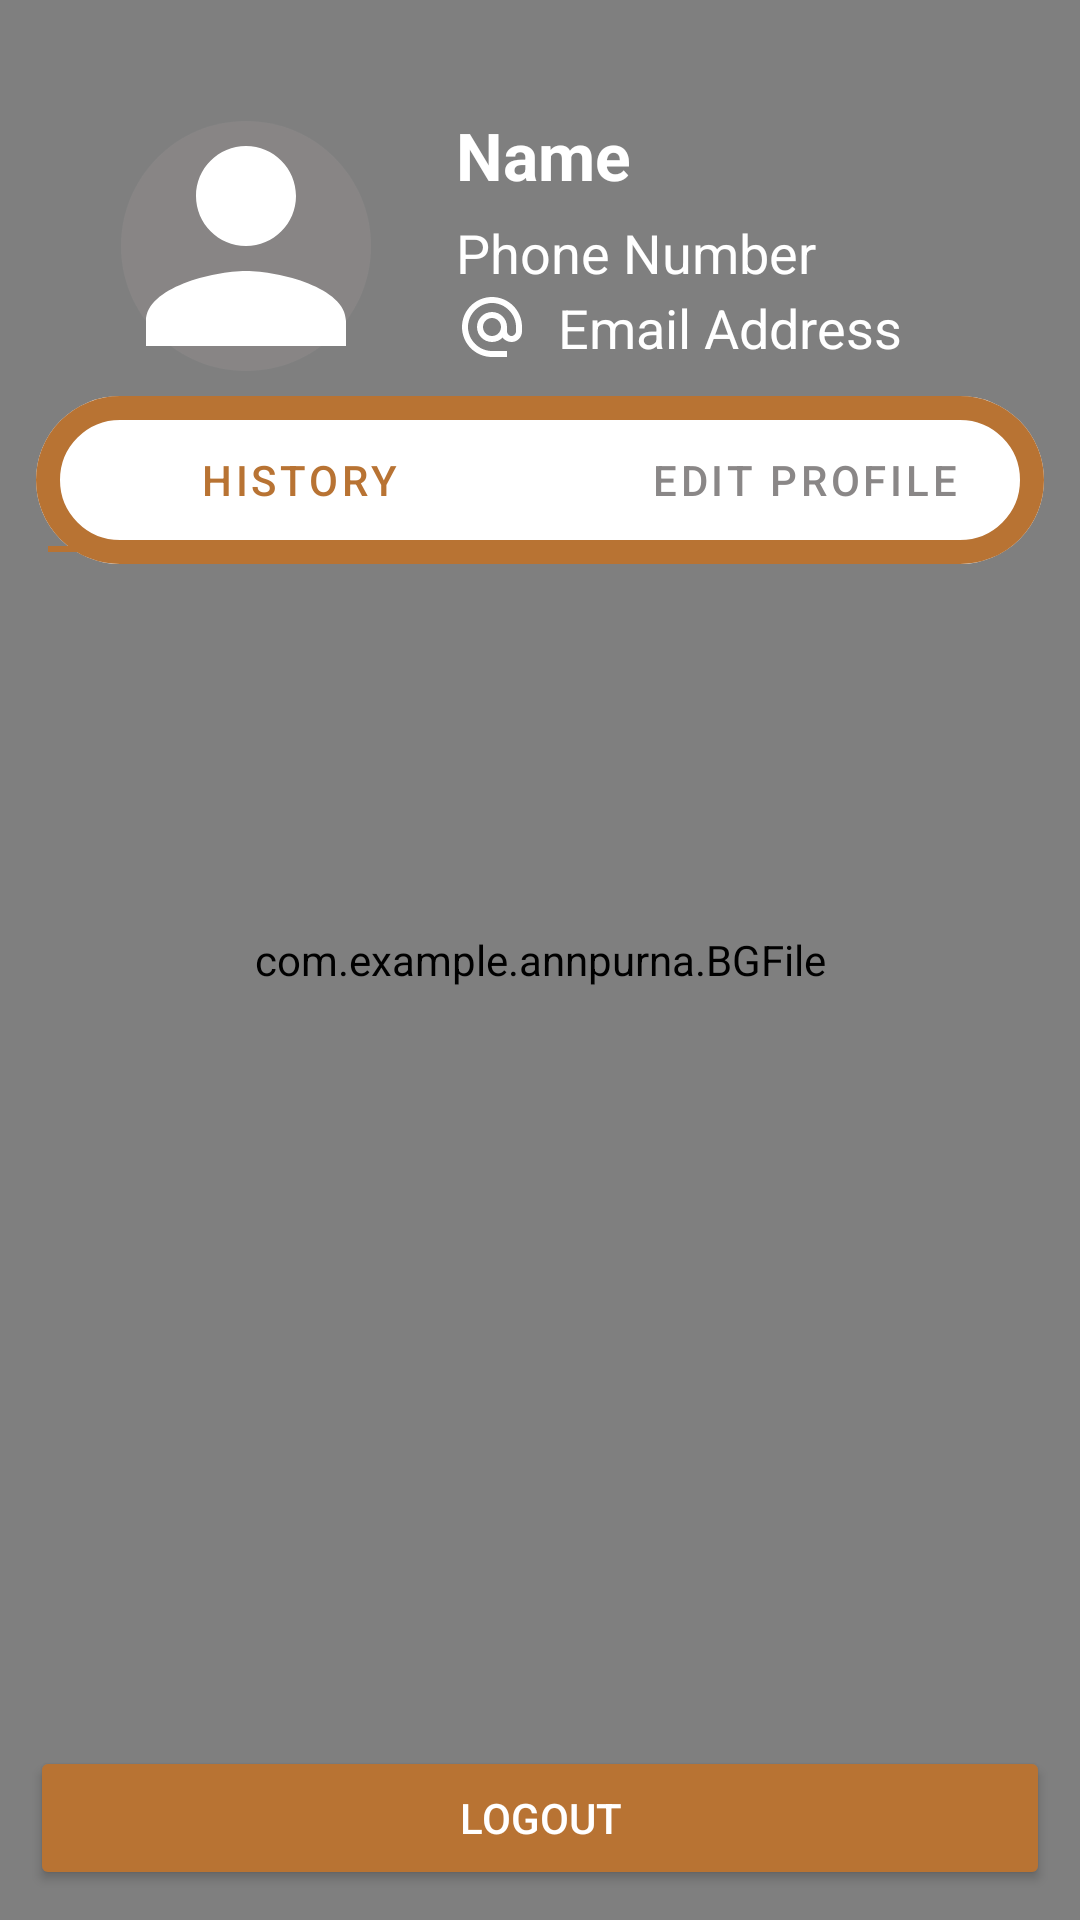

Icons on this 1080×1920 Android screen, each with the point to tap as (x,y):
profile: (246,246)
